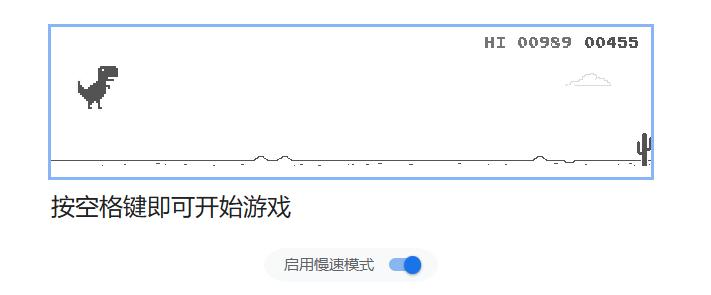cactus: (636, 132, 651, 167)
dino: (75, 64, 119, 110)
